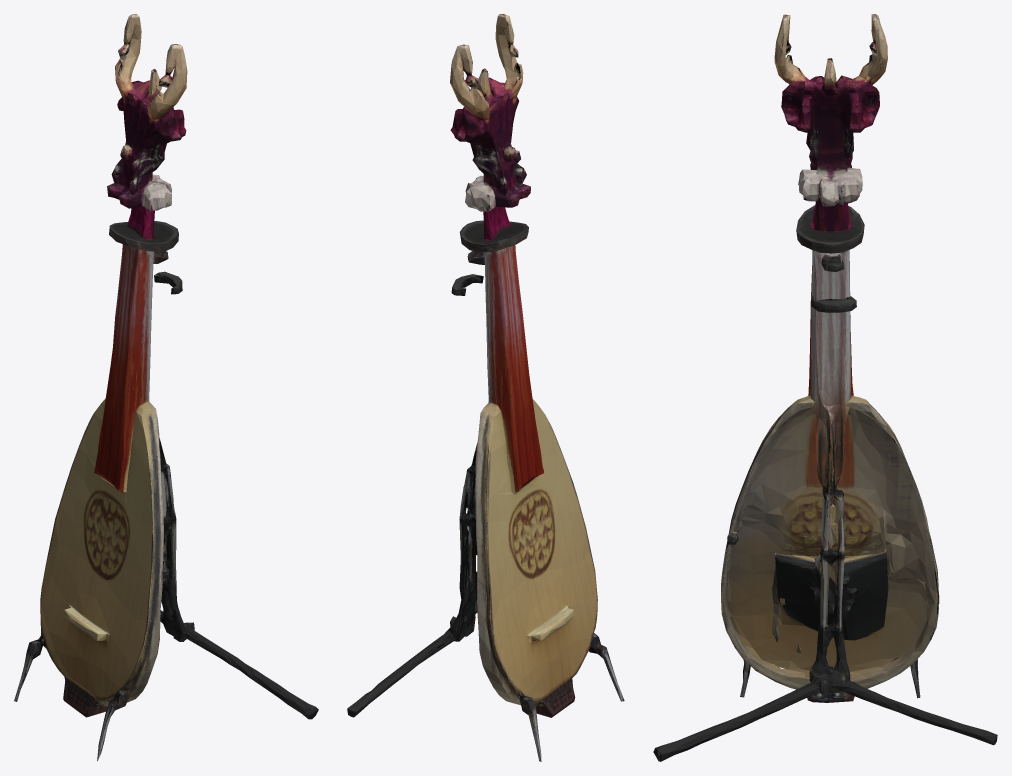
Rendered from kepulauan-bangka-belitung.glb.
3 views of the same model, side by side, from view 1: azimuth 30°, elevation 25°; view 2: azimuth 150°, elevation 25°; view 3: azimuth 270°, elevation 25° (orthographic). The views are drawn at different scales.
Parts seen in each view (by area): view 1: world; view 2: world; view 3: world.
Boxes of the visible parts, x1,y1,x2,y2 form: world: [14, 14, 318, 761]; world: [347, 14, 624, 761]; world: [653, 14, 997, 761].
Size of the model in its own units: 0.1987 by 0.7007 by 0.2975.
Materials: 1 (1 with a texture image).
